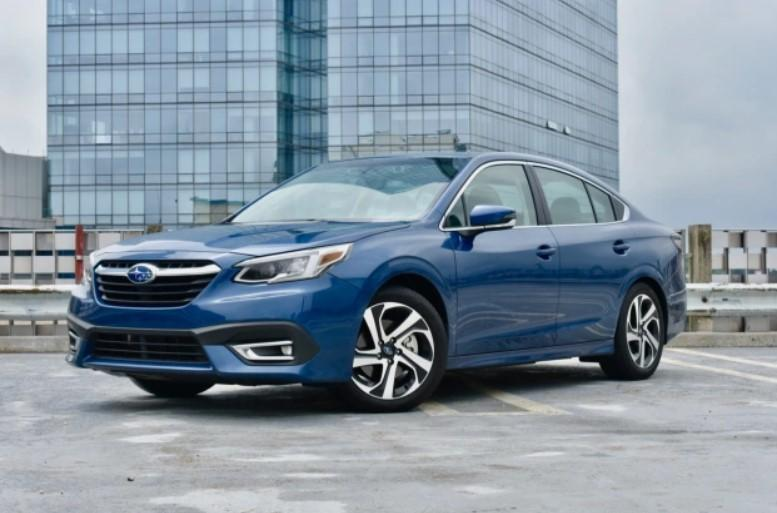subaru: (122, 258, 166, 286)
